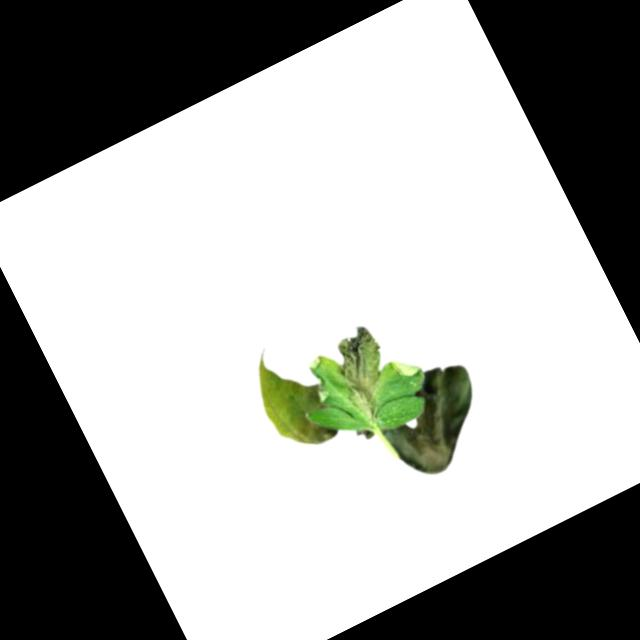Late_blight: (361, 353, 503, 491), (238, 333, 340, 460), (323, 319, 409, 424)
